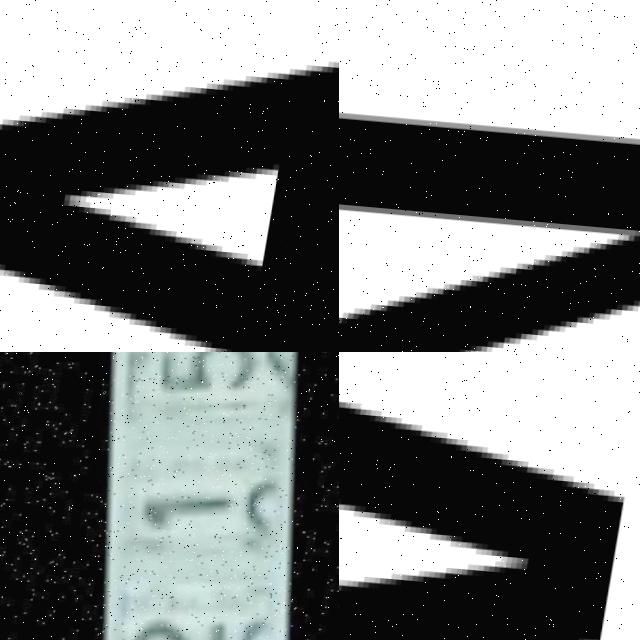1: (122, 460, 255, 556)
2: (116, 589, 255, 640)
5: (136, 352, 270, 419)
A: (0, 0, 339, 352)
N: (339, 100, 640, 352)
V: (339, 352, 640, 640)
